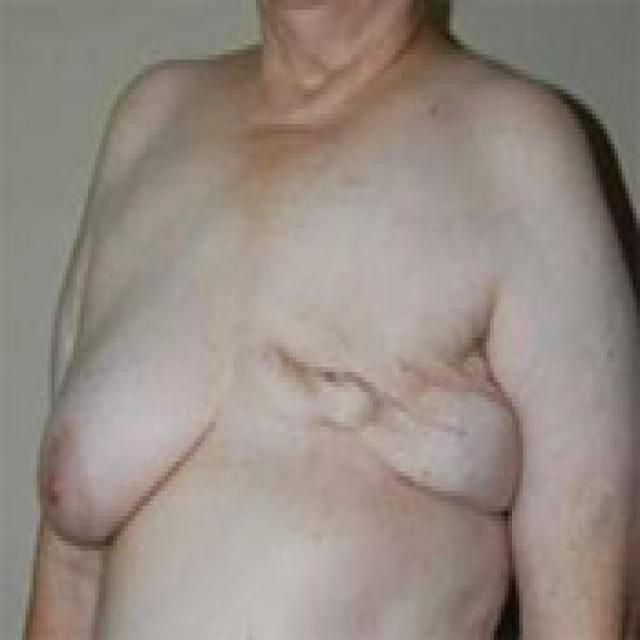Seno herido: (251, 283, 527, 553)
Seno ileso: (31, 294, 220, 561)
